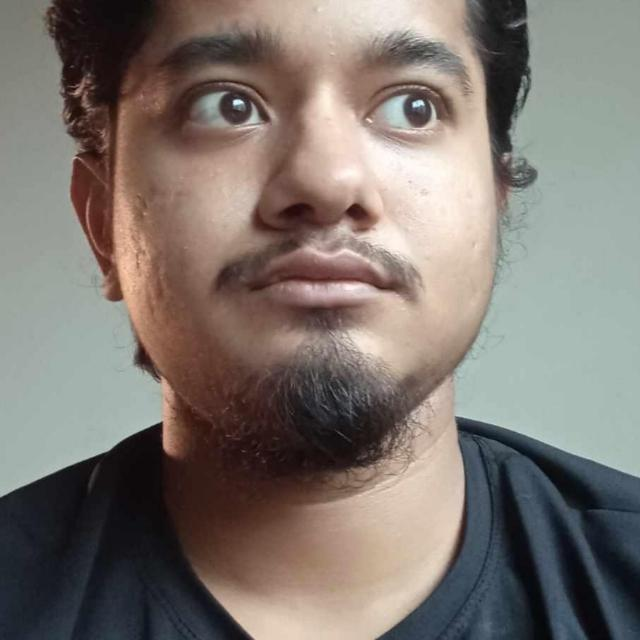Surprised: (30, 9, 606, 513)
